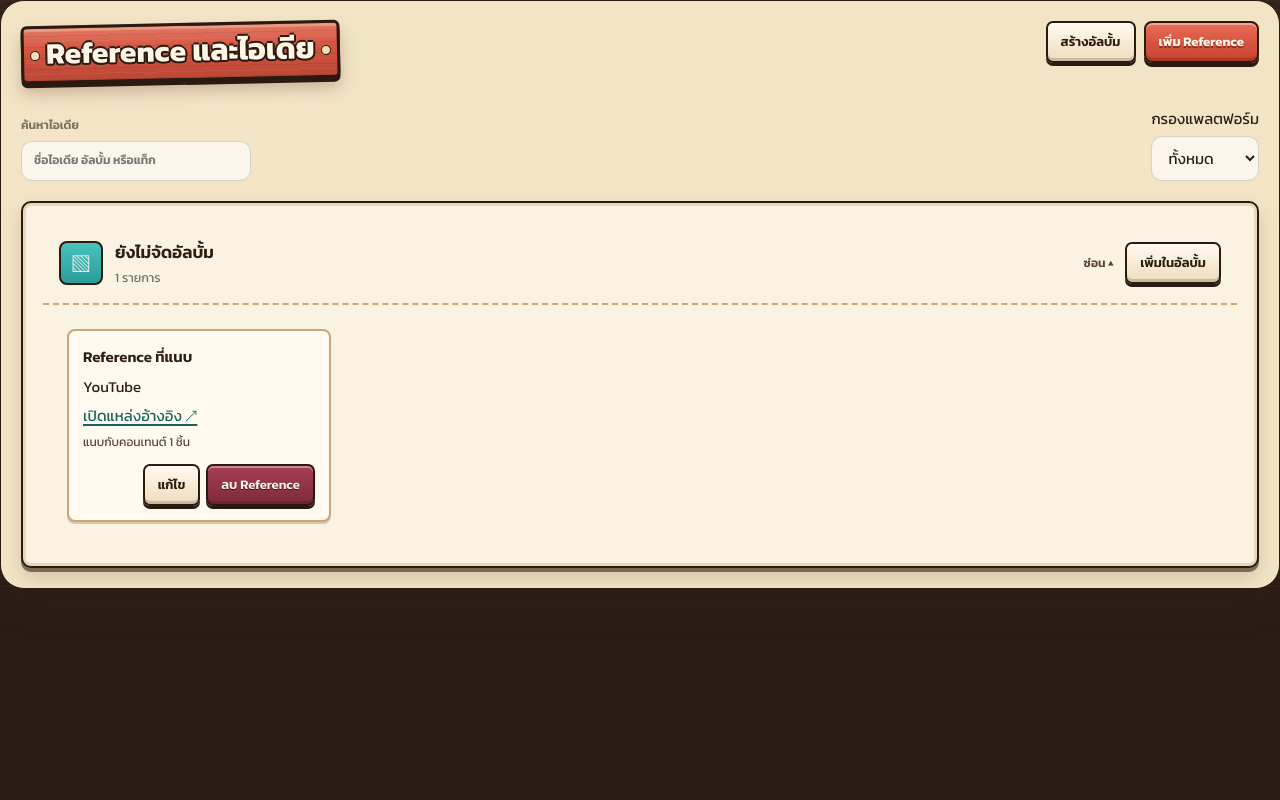
Test: ReferencesWorkspace › asks for confirmation before soft-deleting an attached reference and keeps it recoverable
Expected: the text "Reference ที่แนบ" is shown, left=83, top=346, right=192, bottom=368
Expected: the text "แนบกับคอนเทนต์ 1 ชิ้น" is shown, left=83, top=433, right=190, bottom=451
What coordinates should you click on to do the following:
click the button with aria-label "ลบ Reference ที่แนบ"
I would click on:
 (261, 485)
Its box is left=206, top=464, right=315, bottom=506.
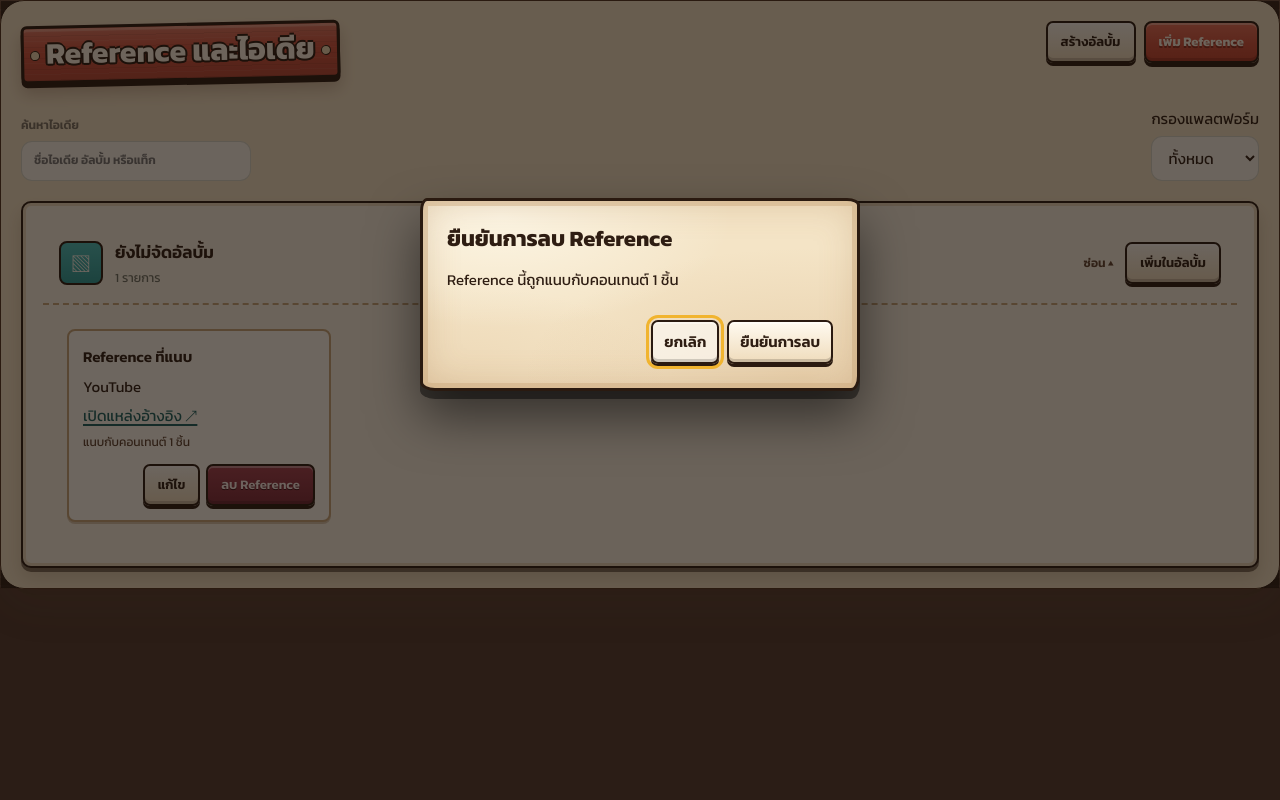
Expected: the dialog "ยืนยันการลบ Reference" is shown, left=420, top=198, right=860, bottom=390
Expected: the text "Reference นี้ถูกแนบกับคอนเทนต์ 1 ชิ้น" is shown, left=447, top=268, right=679, bottom=291
What coordinates should you click on to do the following:
click the button "ยกเลิก"
I would click on:
 (685, 342)
Its box is left=651, top=320, right=719, bottom=364.
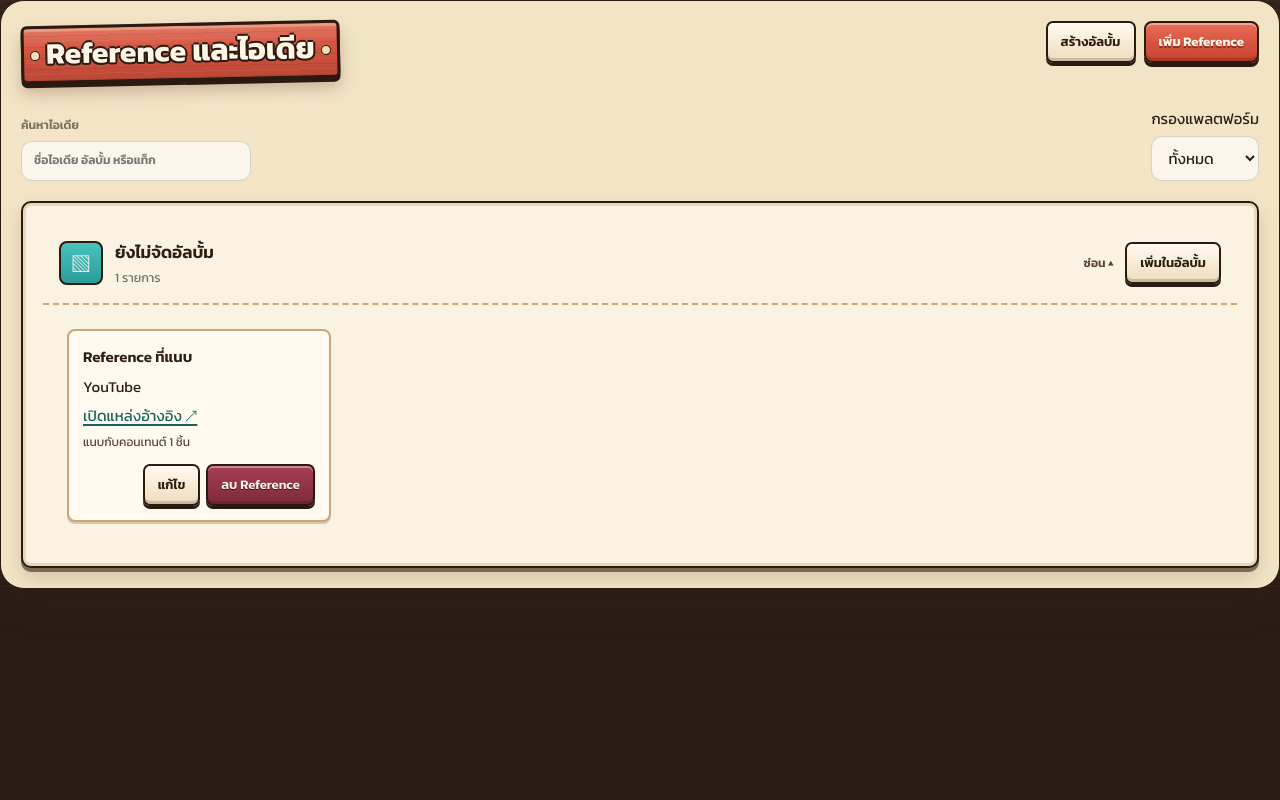
Expected: the text "Reference ที่แนบ" is shown, left=83, top=346, right=192, bottom=368
What coordinates should you click on to do the following:
click the button with aria-label "ลบ Reference ที่แนบ"
I would click on:
 (261, 485)
Its box is left=206, top=464, right=315, bottom=506.
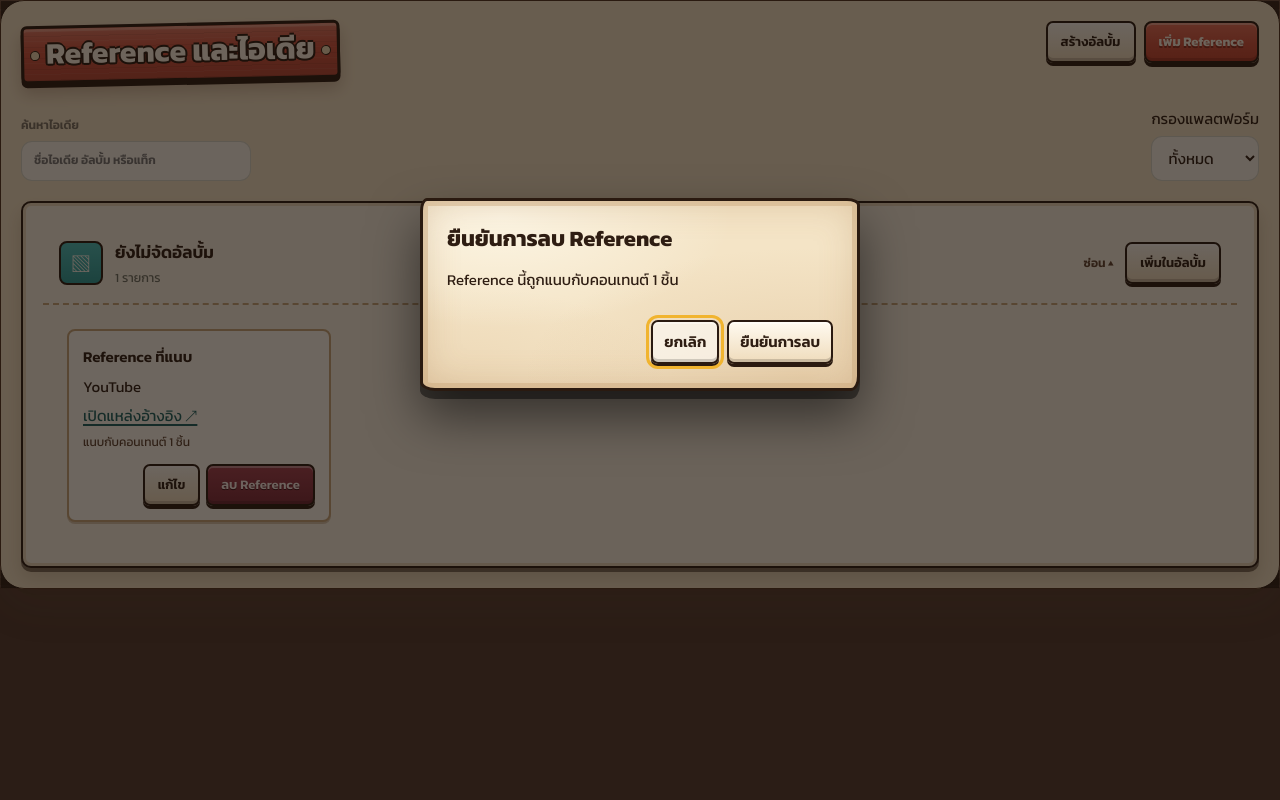
What coordinates should you click on to do the following:
click the button "ยืนยันการลบ"
I would click on:
 (780, 342)
Its box is left=727, top=320, right=833, bottom=364.
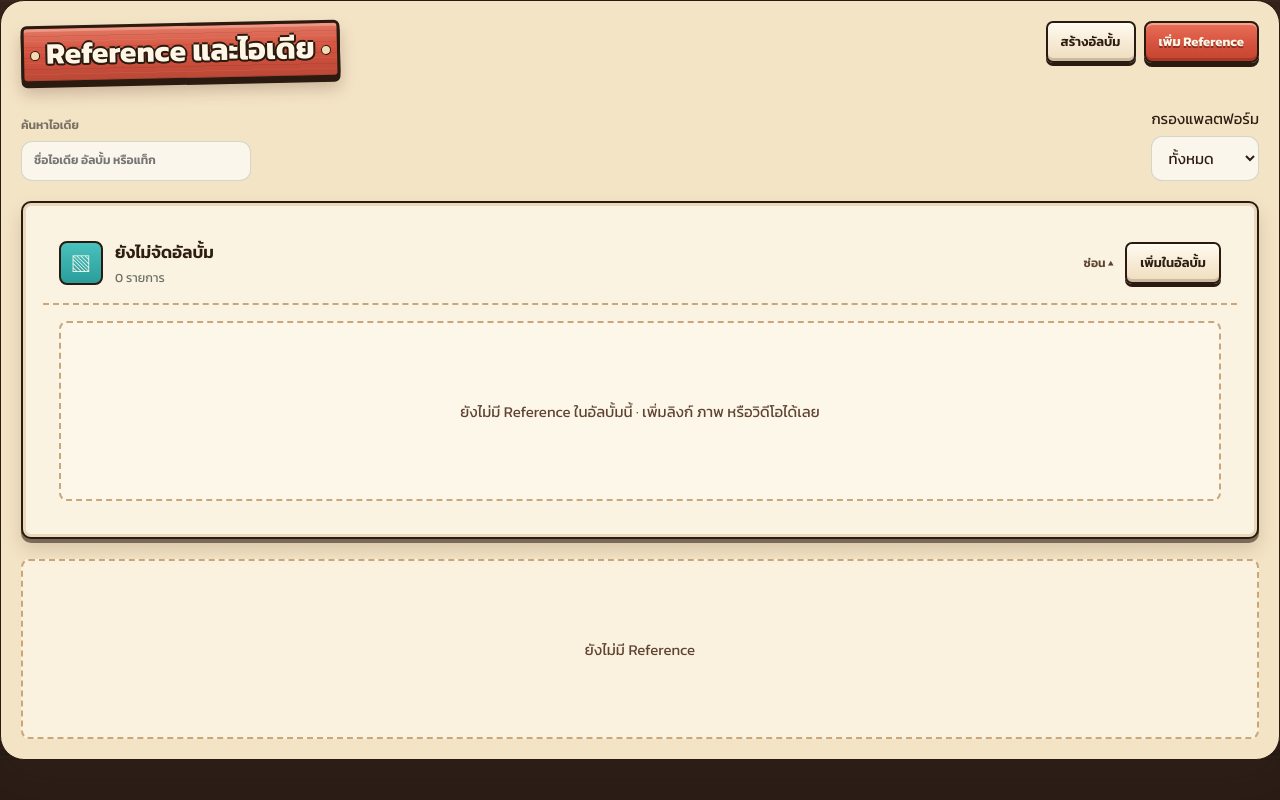
Expected: the text "Reference ที่แนบ" is gone
